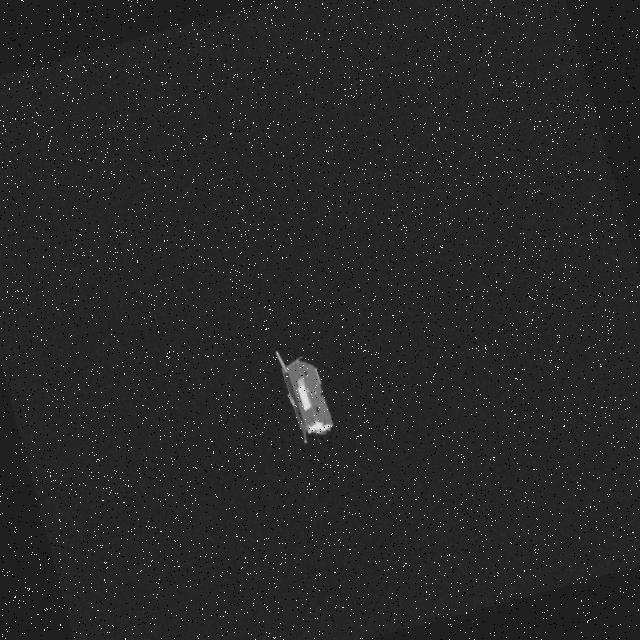satellite: (260, 346, 346, 446)
